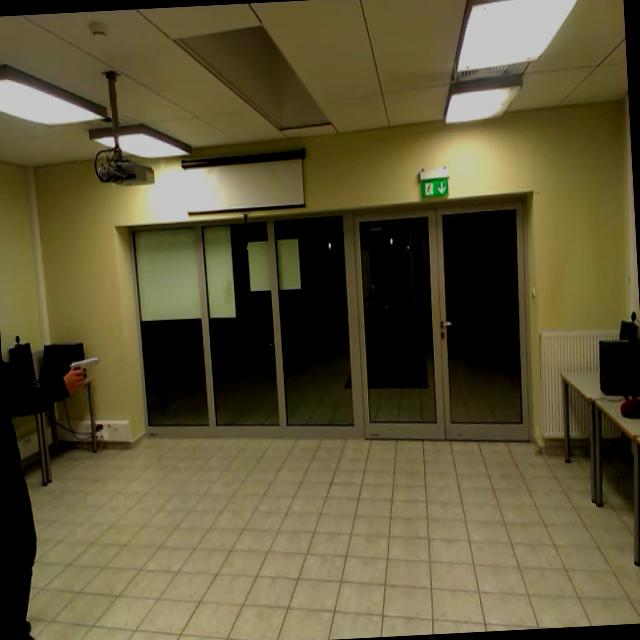handgun: (66, 346, 114, 392)
